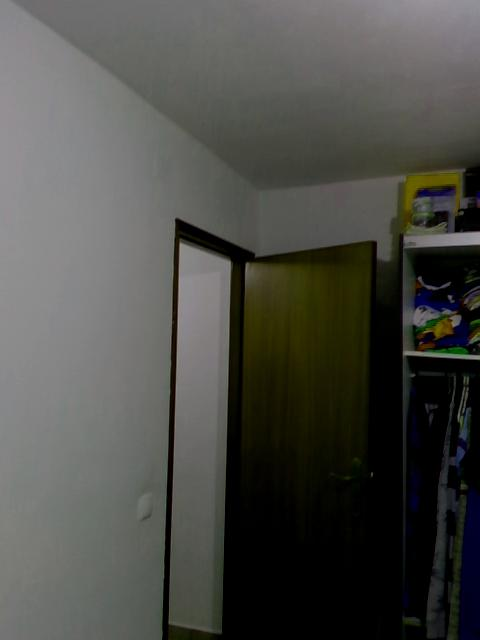open_door: (160, 214, 257, 639)
